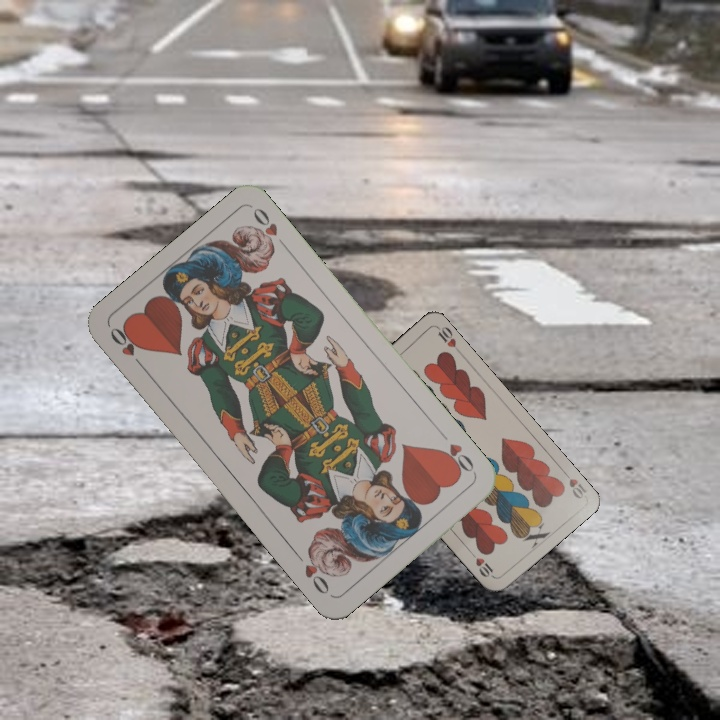H10: (558, 465, 590, 502)
HO: (105, 323, 149, 373), (435, 439, 477, 478)
